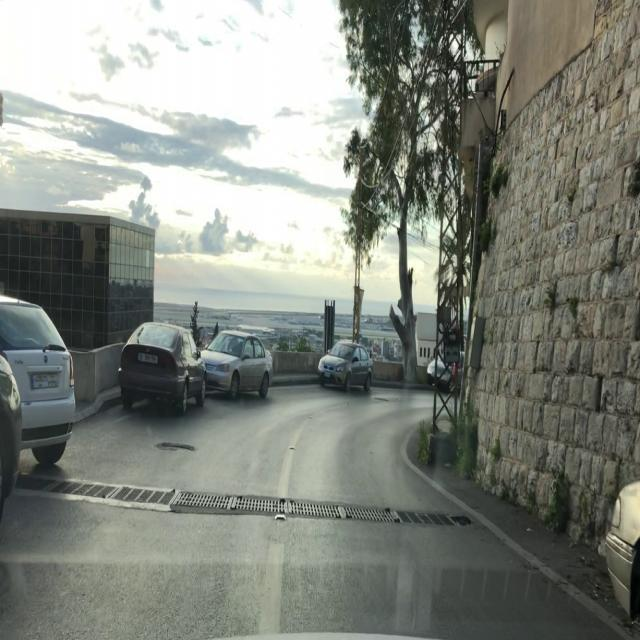Buraco: (152, 440, 197, 454)
